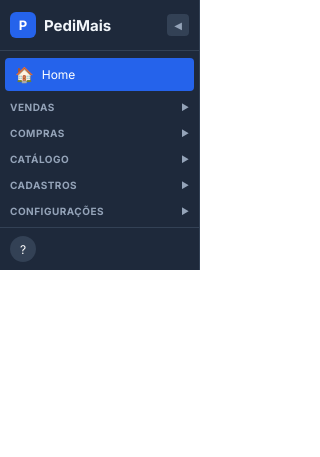
Test: AppSidebar › lists Formas de Recebimento under VENDAS, not under CADASTROS
Click the element with test id "group-cadastros".
click(44, 185)  # box [10,179,189,191]
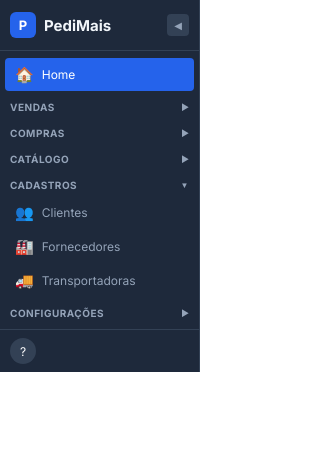
# accordion: abrir "vendas" fecha "cadastros"
Click the element with test id "group-vendas".
click(32, 107)  # box [10,101,189,113]
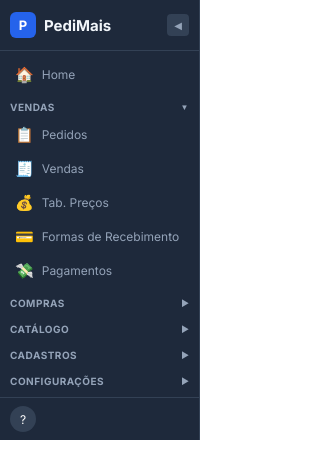
Expected: the element with test id "nav-Formas de Recebimento" is shown, [15,227,179,246]
